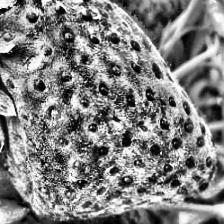Powdery Mildew Fruit: (0, 0, 220, 221)
